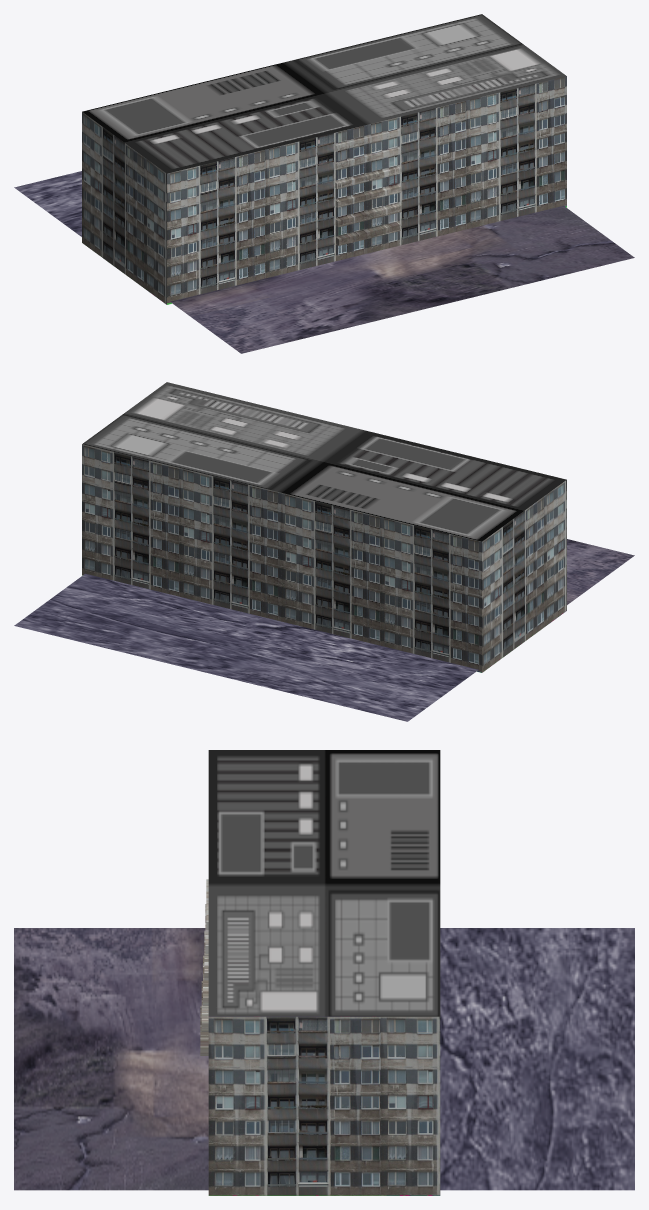
The model's file is city3.gltf.
3 views of the same model, one above another, from view 1: azimuth 30°, elevation 25°; view 2: azimuth 150°, elevation 25°; view 3: azimuth 270°, elevation 25° (orthographic). The views are drawn at different scales.
Parts seen in each view (by area): view 1: Cube, Plane; view 2: Cube, Plane; view 3: Cube, Plane.
Part boxes in pixels (box(x1,y1,x2,y2)): Cube: box(82, 14, 566, 304); Plane: box(14, 171, 634, 353); Cube: box(82, 382, 566, 672); Plane: box(14, 539, 634, 721); Cube: box(200, 750, 440, 1195); Plane: box(14, 928, 634, 1190).
Size of the model in its own units: 102 by 31.86 by 100.
1 material, 1 textured.
